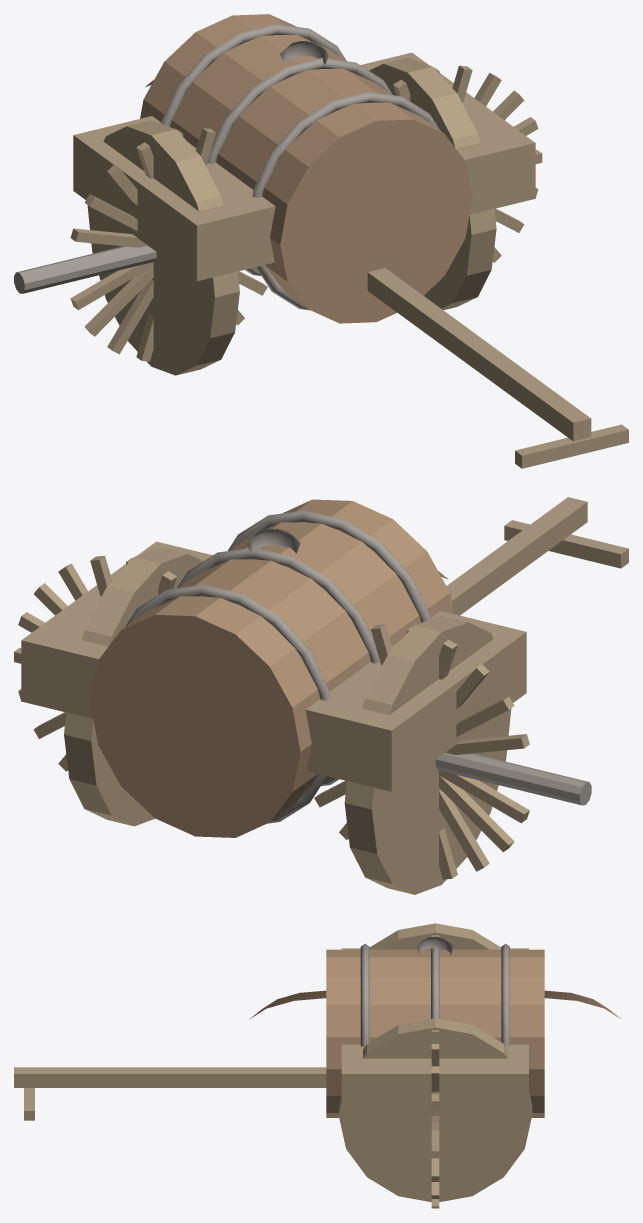
Rendered from trench-line-1917-water-cart-e3f5f09d__24115.glb.
3 renders of one model, top to bottom at view 1: azimuth 30°, elevation 25°; view 2: azimuth 150°, elevation 25°; view 3: azimuth 270°, elevation 25°, orthographic. The views are drawn at different scales.
Visible parts, largest first — view 1: water-cart; view 2: water-cart; view 3: water-cart.
Part boxes in pixels (x1,y1,x2,y2): water-cart: (14,14,628,468); water-cart: (14,497,628,894); water-cart: (14,923,620,1208).
Size of the model in its own units: 2.92 by 1.51 by 3.94.
